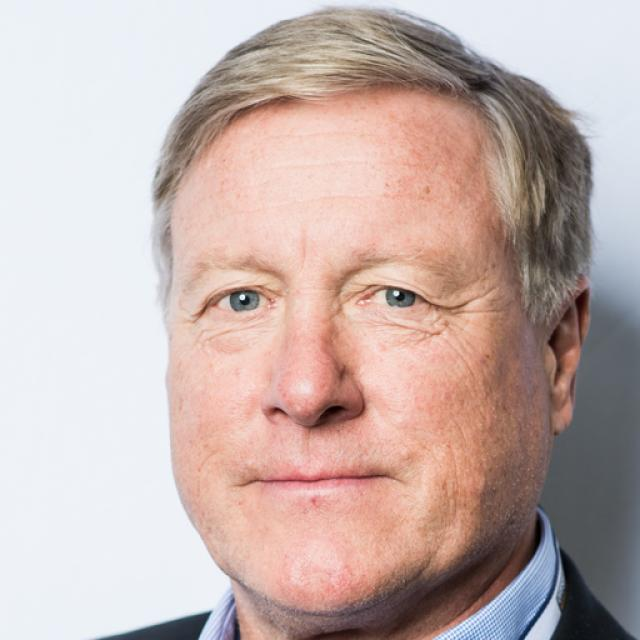Pigmentation: (371, 105, 486, 212)
